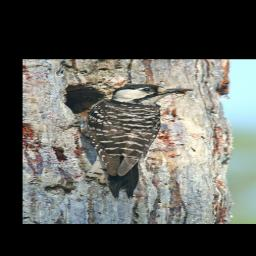Woodpecker: (56, 84, 196, 202)
